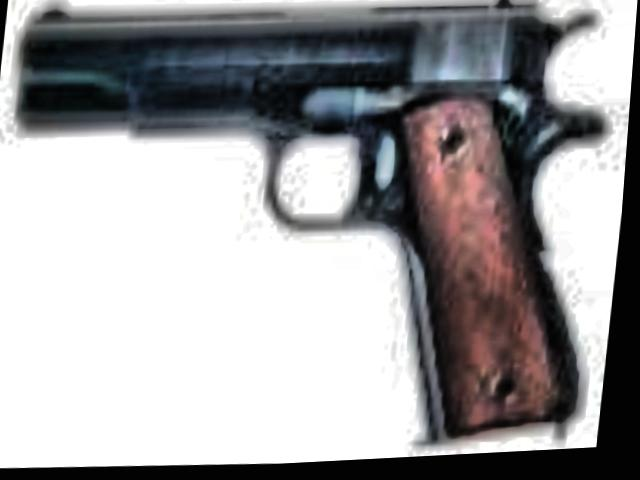pistol: (0, 0, 624, 465)
